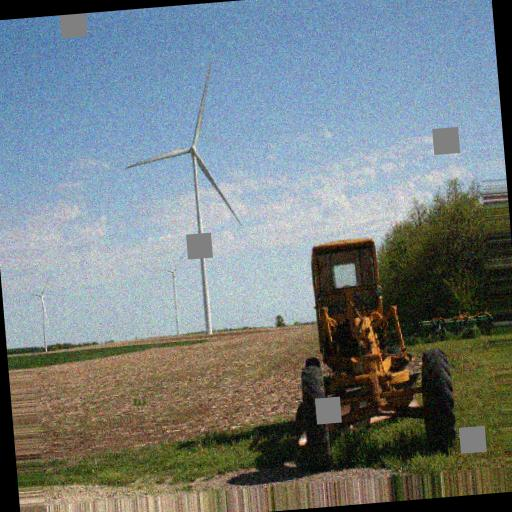wind turbine: (122, 61, 243, 331)
